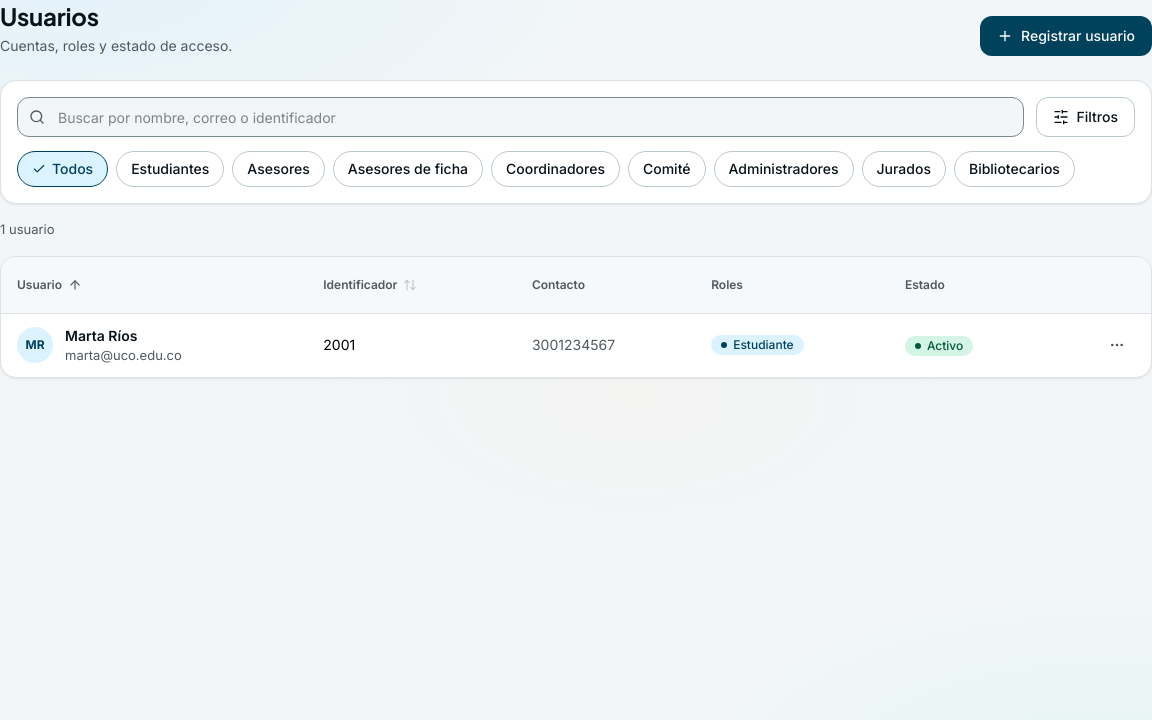
Test: AdministradorView › "Registrar usuario" abre el panel con el listado detrás y el botón de la cabecera sigue visible
This screenshot has width=1152, height=720.
expect the table named "Usuarios" is shown: met, box x1=1 y1=257 x2=1151 y2=377
Click the button "Registrar usuario" at (1066, 36), box x1=980 y1=16 x2=1151 y2=56
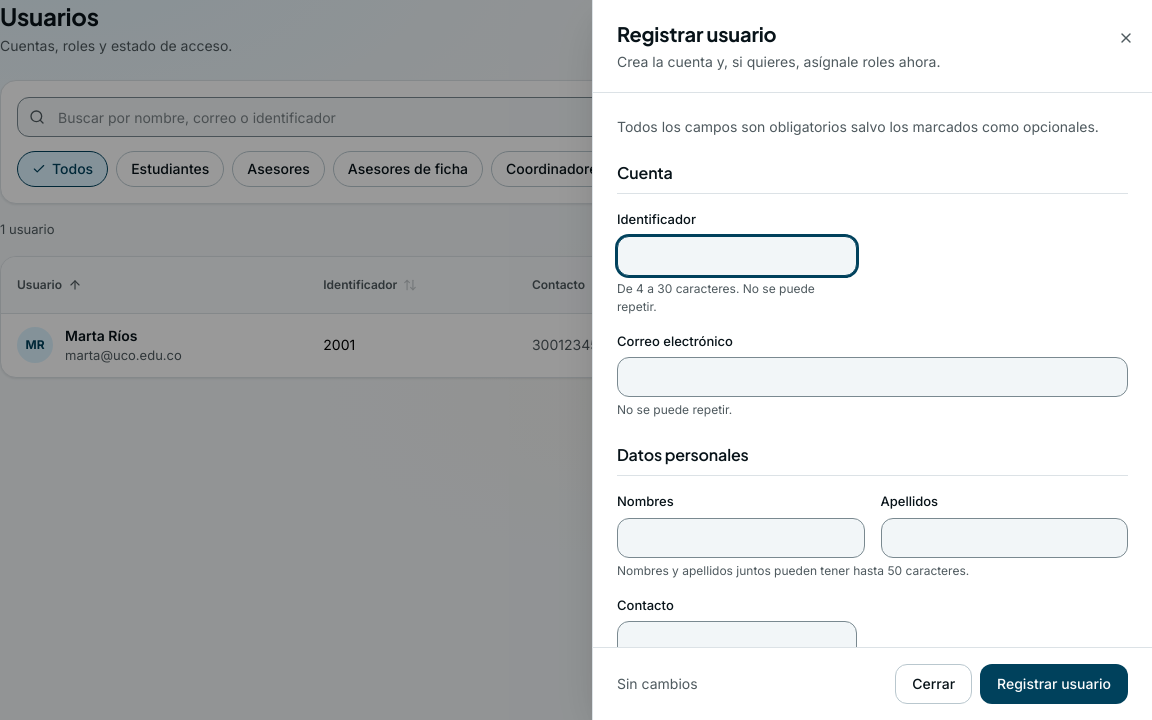
expect the table named "Usuarios" is shown: met, box x1=1 y1=257 x2=1151 y2=377
expect the dialog "Registrar usuario" is shown: met, box x1=592 y1=0 x2=1151 y2=719
